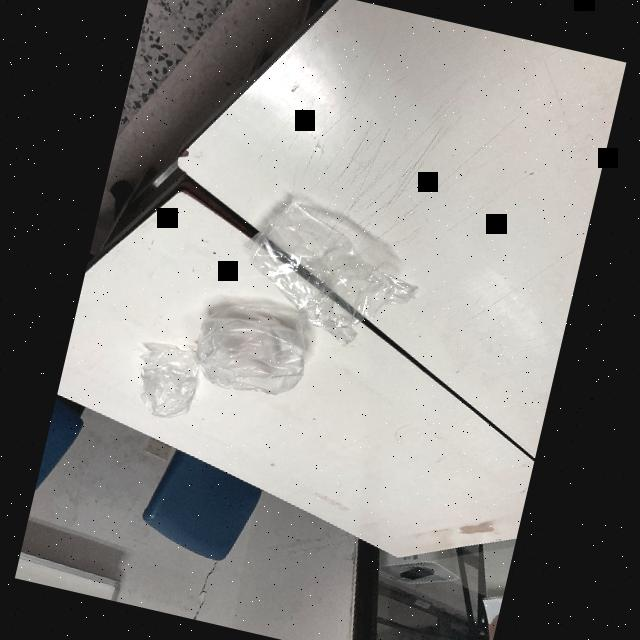plastic_bag: (226, 186, 434, 360), (182, 291, 322, 404), (121, 336, 210, 424)
